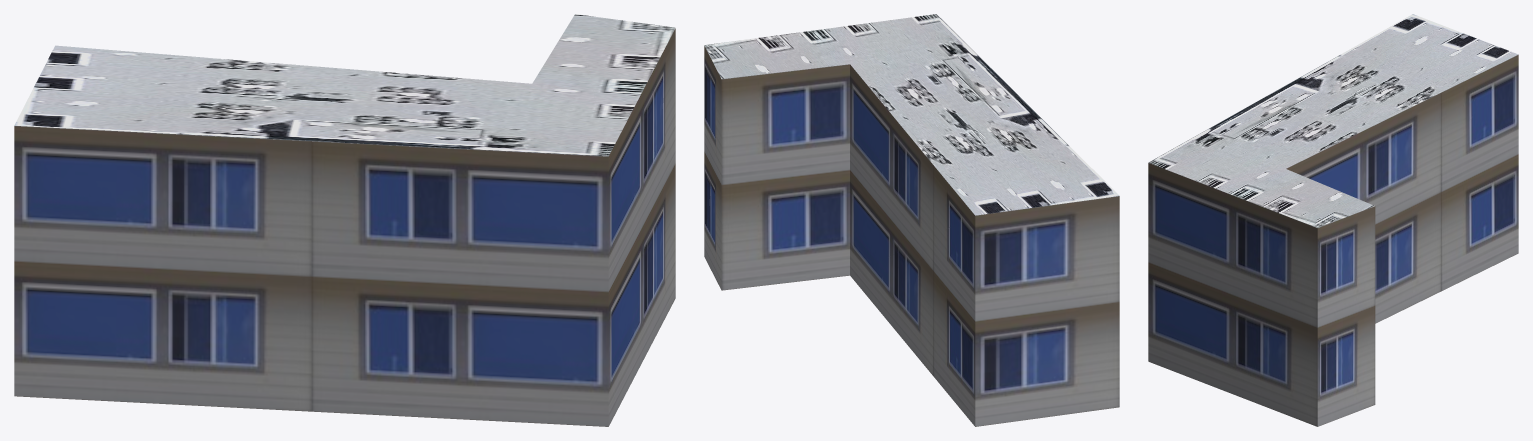
File: ResTex__275.fbx
The picture shows the model from 3 angles, left to right: view 1: azimuth 30°, elevation 25°; view 2: azimuth 150°, elevation 25°; view 3: azimuth 270°, elevation 25°; orthographic projection. The views are drawn at different scales.
Parts seen in each view (by area): view 1: CityEngineMaterial_23_m, CityEngineMaterial_8_m; view 2: CityEngineMaterial_23_m, CityEngineMaterial_8_m; view 3: CityEngineMaterial_23_m, CityEngineMaterial_8_m.
Boxes of the visible parts, bbox=[...] form: CityEngineMaterial_23_m: bbox=[14, 28, 675, 426]; CityEngineMaterial_8_m: bbox=[14, 14, 675, 156]; CityEngineMaterial_23_m: bbox=[704, 46, 1119, 426]; CityEngineMaterial_8_m: bbox=[704, 14, 1119, 215]; CityEngineMaterial_23_m: bbox=[1148, 54, 1518, 426]; CityEngineMaterial_8_m: bbox=[1148, 14, 1518, 227].
Bounding box in the file's own units: 13.85 × 6 × 10.13.
2 materials, 2 textured.
